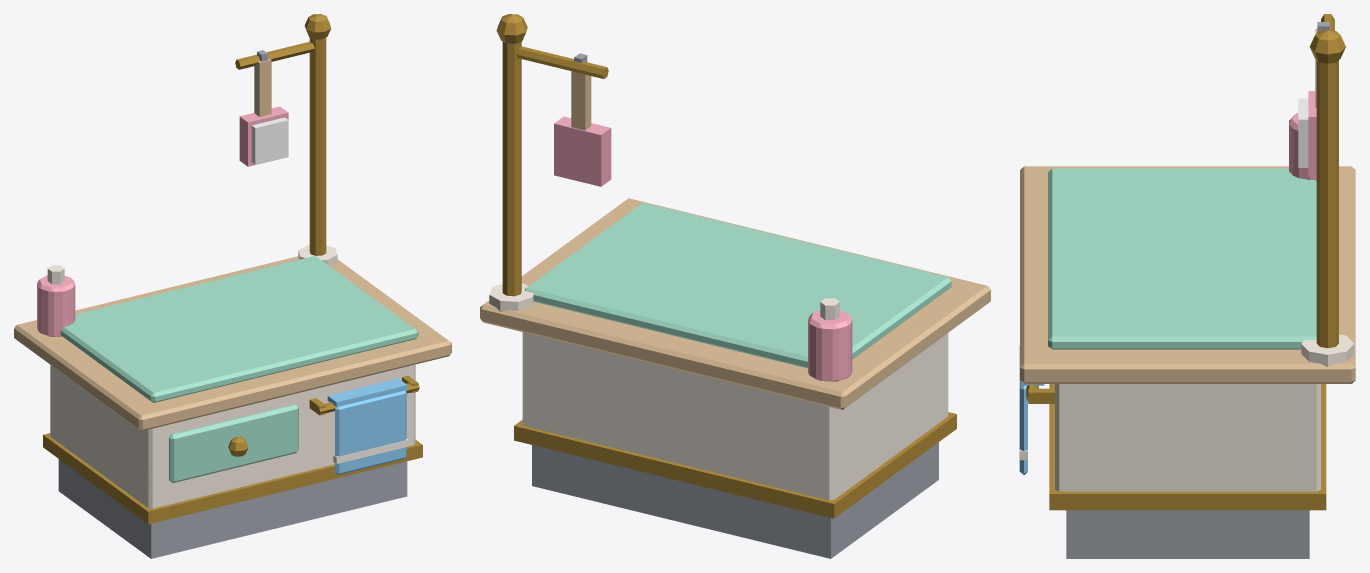
File: CleanACat_Station_BrushTable.fbx
3 views of the same model, side by side, from view 1: azimuth 30°, elevation 25°; view 2: azimuth 150°, elevation 25°; view 3: azimuth 270°, elevation 25° (orthographic). The views are drawn at different scales.
Visible parts, largest first — view 1: CleanACat_Station_BrushTable, CleanACat_Station_BrushTable_Barrier; view 2: CleanACat_Station_BrushTable, CleanACat_Station_BrushTable_Barrier; view 3: CleanACat_Station_BrushTable, CleanACat_Station_BrushTable_Barrier.
Part boxes in pixels (<box>): CleanACat_Station_BrushTable: <box>14,14,451,524</box>; CleanACat_Station_BrushTable_Barrier: <box>58,459,407,558</box>; CleanACat_Station_BrushTable: <box>480,14,990,518</box>; CleanACat_Station_BrushTable_Barrier: <box>532,442,938,558</box>; CleanACat_Station_BrushTable: <box>1019,14,1355,510</box>; CleanACat_Station_BrushTable_Barrier: <box>1066,510,1309,558</box>.
Size of the model in its own units: 3.4 by 4.25 by 2.41.
1 material, 1 textured.
